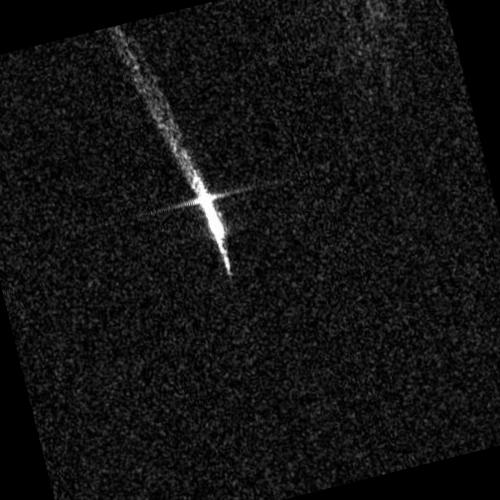ship: (190, 172, 226, 251)
